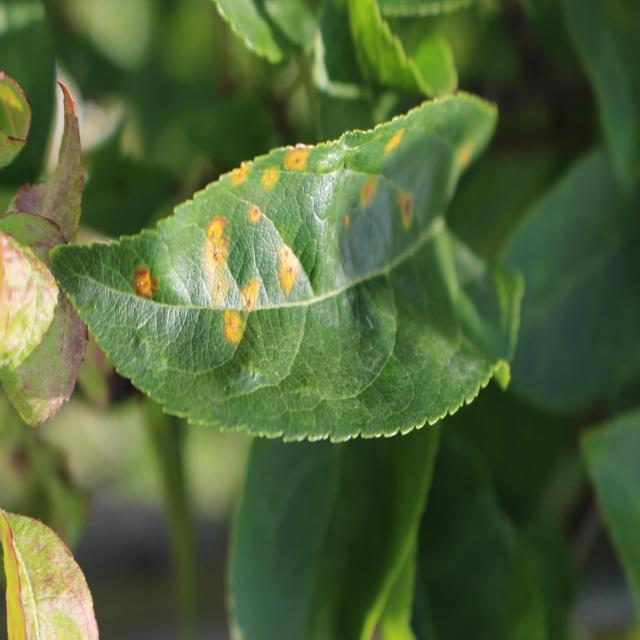Rust: (196, 213, 230, 310), (276, 242, 305, 306), (128, 255, 160, 306), (220, 302, 248, 356), (224, 150, 256, 197), (399, 177, 419, 249), (375, 126, 417, 160), (281, 138, 318, 175), (357, 172, 382, 219), (257, 163, 286, 198), (241, 274, 267, 313), (458, 136, 476, 176), (246, 194, 264, 233), (343, 208, 353, 237)
